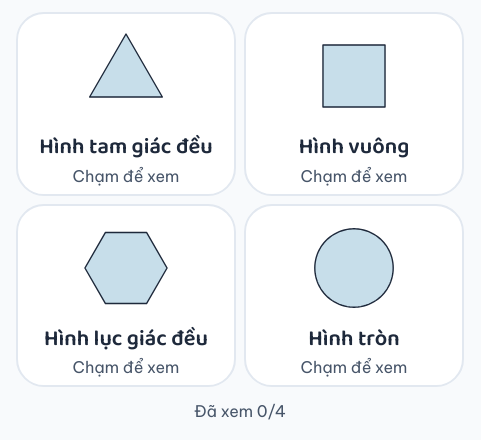
Test: the touchable pictures › the cards show the axes once tapped
Step 1. Click the button "Hình lục giác đều Chạm để xem" → [126, 295], box 16,204 -> 236,387
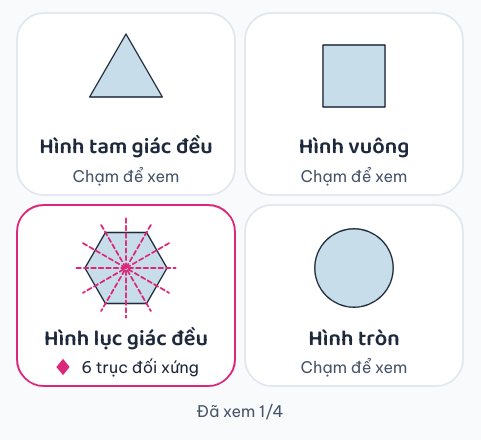
Result: the text "6 trục đối xứng" is shown at 53,355 -> 199,379
Result: the text "Đã xem 1/4" is shown at 196,399 -> 284,423
